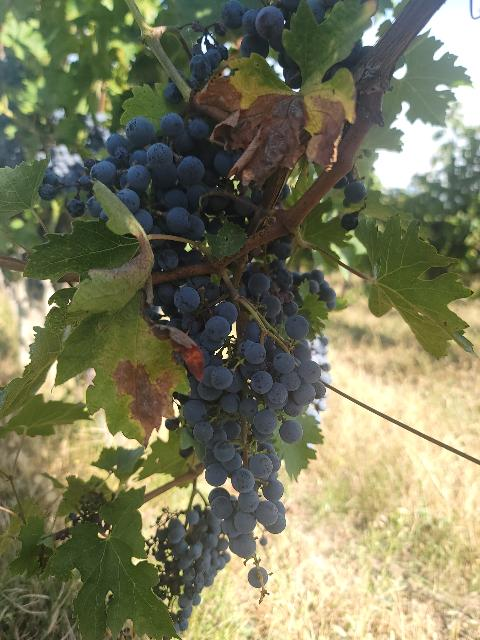grapes: (158, 279, 329, 549), (39, 114, 241, 234), (146, 505, 230, 630)
